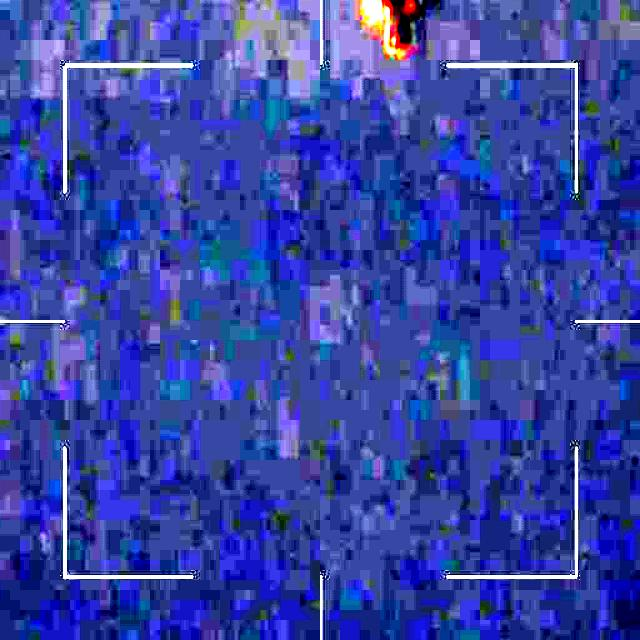bird: (359, 0, 442, 56)
